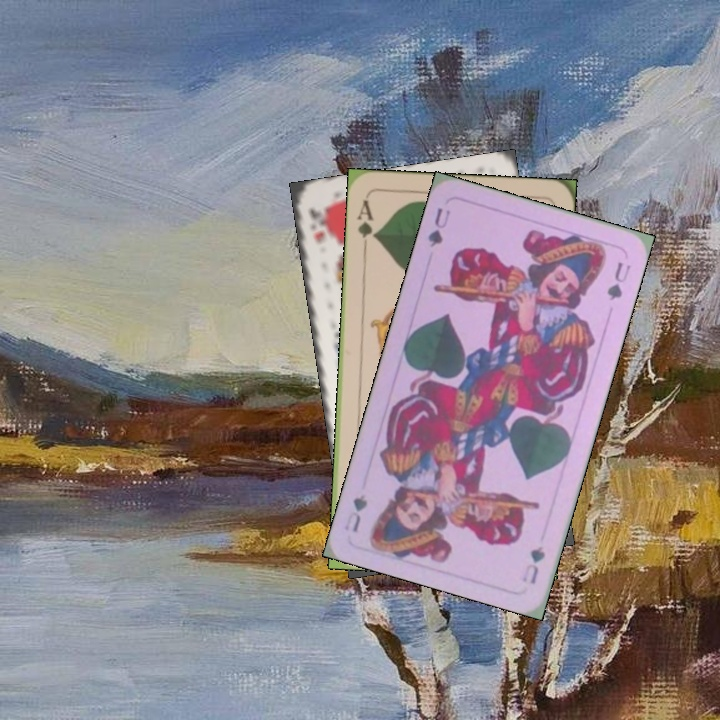GA: (353, 196, 379, 253)
GU: (518, 542, 548, 587), (424, 204, 453, 250)
HK: (305, 203, 332, 247)
